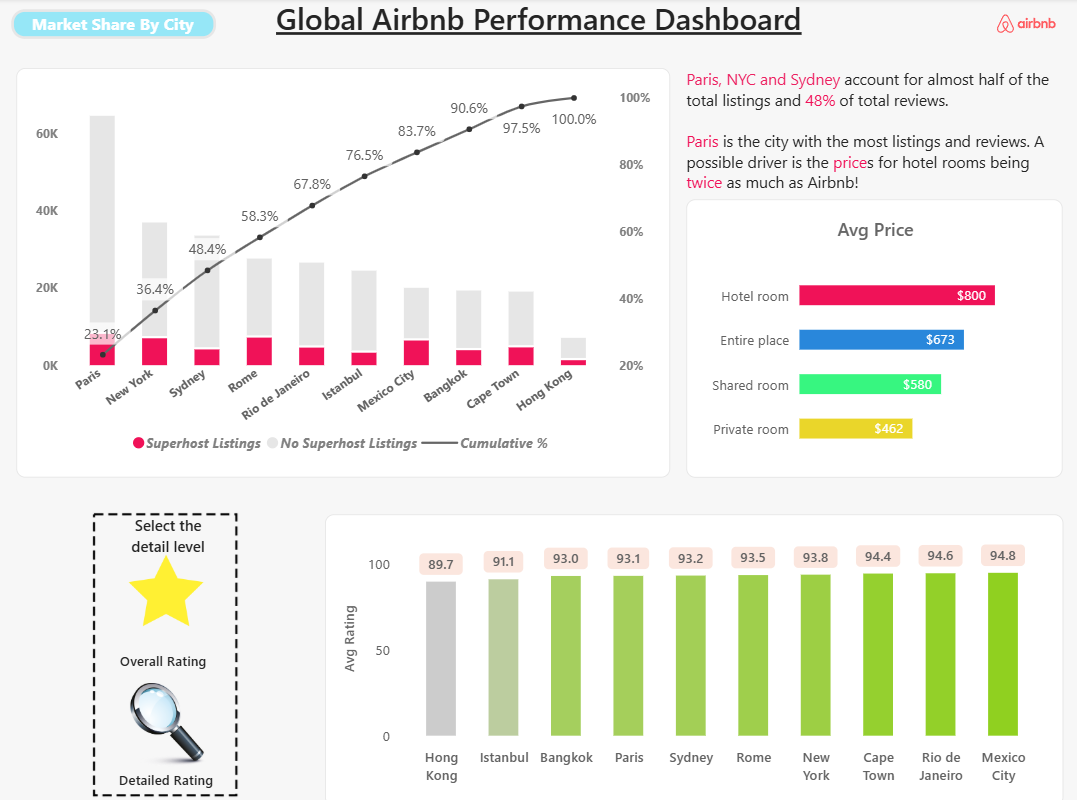

The page's visual inventory and layout, read from the dashboard file:
{"tool":"powerbi","page":{"name":"Ratings","canvas":[960,720],"ordinal":1},"visuals":[{"type":"textbox","box":[223.9,0,512.2,48.9],"z":0},{"type":"image","box":[103.3,610,88.9,75.6],"z":0,"group":"g2"},{"type":"image","box":[866.7,0,93.3,45.6],"z":1000},{"type":"textbox","box":[106.7,580,77.8,20],"z":1000,"group":"g1"},{"type":"textbox","box":[103.3,685.6,88.9,21.1],"z":1000,"group":"g2"},{"type":"textbox","box":[10,10,182.2,26.7],"z":2000},{"type":"lineStackedColumnComboChart","fields":{"Category":["Listings.city"],"Y":["Listings.Superhost Listings","Listings.No Superhost Listings"],"Y2":["Listings.Cumulative %"]},"box":[14.4,62.2,582.2,364.4],"z":3000},{"type":"barChart","title":"Avg Price","fields":{"Category":["Listings.room_type"],"Y":["Listings.Avg price"]},"box":[611.1,178.9,335.6,247.8],"z":4000},{"type":"textbox","box":[611.1,62.2,335.6,116.7],"z":5000},{"type":"columnChart","fields":{"Category":["Listings.city"],"Y":["Listings.Avg Ratings"]},"box":[288.9,460,657.8,260],"z":6000},{"type":"image","box":[108.9,492.2,77.8,71.1],"z":6750},{"type":"image","box":[14.4,450,265.6,270],"z":7000},{"type":"textbox","box":[107.8,460,83.3,40],"z":8000},{"type":"pivotTable","fields":{"Rows":["Listings.city"],"Values":["Listings.Accuracy","Listings.Cleanliness","Listings.Communication","Listings.Location","Listings.Value"]},"box":[288.9,450,657.8,270],"z":8500},{"type":"group","id":"g1","title":"Group 1","box":[106.7,580,77.8,20],"z":9000},{"type":"group","id":"g2","title":"Group 2","box":[103.3,610,88.9,96.7],"z":11000}]}

Visuals, with their boxes in screenshot pixels (x1, y1, x2, y2), scaled from the page's 960x720 canvas onto the 1077x800 screenshot:
textbox: 251 0 826 54
image: 116 678 216 762
image: 972 0 1076 51
textbox: 120 644 207 667
textbox: 116 762 216 785
textbox: 11 11 216 41
lineStackedColumnComboChart - Listings.city x Listings.Superhost Listings: 16 69 669 474
"Avg Price" barChart: 686 199 1062 474
textbox: 686 69 1062 199
columnChart - Listings.city x Listings.Avg Ratings: 324 511 1062 799
image: 122 547 209 626
image: 16 500 314 799
textbox: 121 511 214 556
pivotTable - Listings.city x Listings.Accuracy: 324 500 1062 799
"Group 1" group: 120 644 207 667
"Group 2" group: 116 678 216 785
